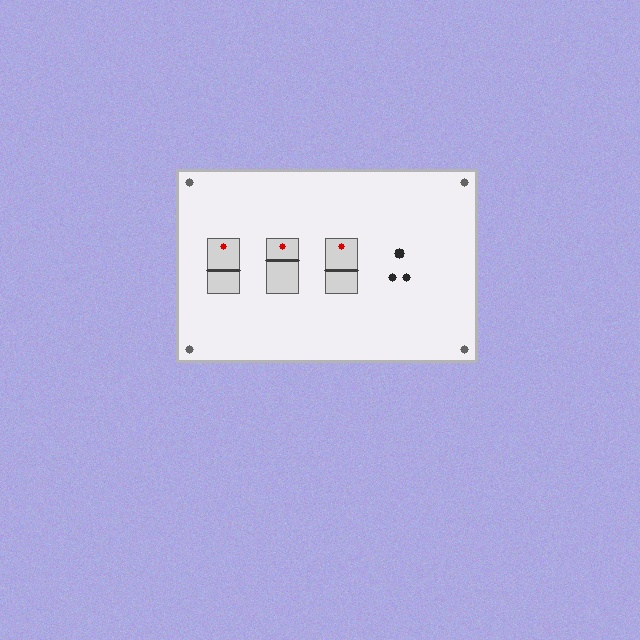switchboard: (177, 170, 476, 361)
